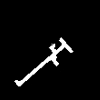double_crochet: (15, 38, 72, 85)
